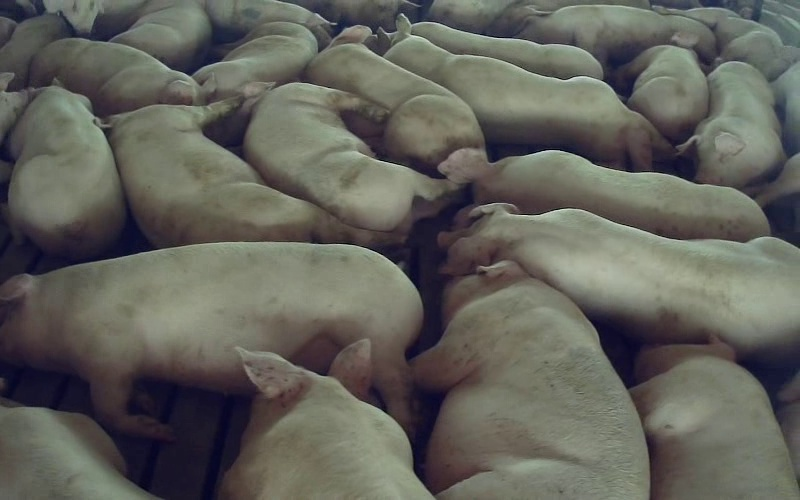pig: (0, 245, 422, 439), (439, 204, 799, 364), (411, 261, 648, 499), (385, 14, 672, 170), (220, 339, 432, 499), (241, 82, 460, 234), (438, 148, 769, 240), (630, 337, 799, 499), (305, 26, 483, 170), (8, 79, 125, 259), (29, 38, 215, 116), (677, 61, 784, 187), (515, 5, 715, 67), (412, 22, 603, 79), (652, 6, 799, 80), (618, 32, 708, 143), (193, 22, 317, 99), (111, 0, 211, 71), (206, 0, 334, 48)
